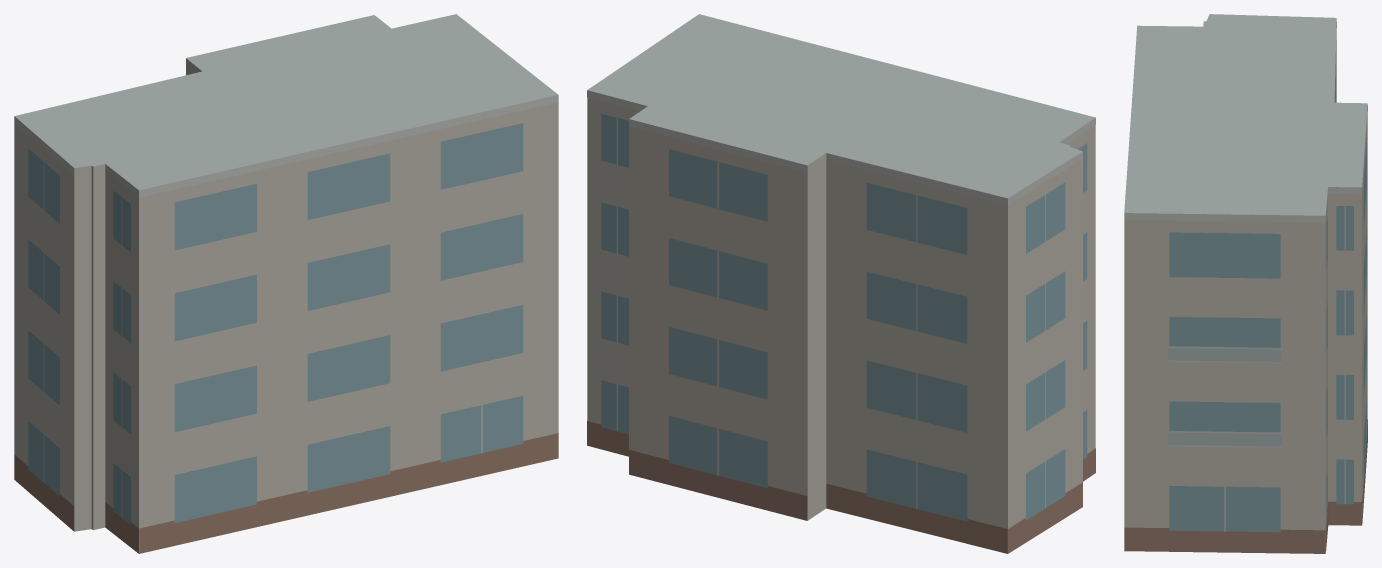
File: survey-upis-32854847.glb
The picture shows the model from 3 angles, left to right: view 1: azimuth 30°, elevation 25°; view 2: azimuth 150°, elevation 25°; view 3: azimuth 270°, elevation 25°; orthographic projection. The views are drawn at different scales.
Visible parts, largest first — view 1: survey-upis-32854847.tmp; view 2: survey-upis-32854847.tmp; view 3: survey-upis-32854847.tmp.
Part boxes in pixels (x1,y1,x2,y2): survey-upis-32854847.tmp: (14,14,558,553); survey-upis-32854847.tmp: (587,14,1095,553); survey-upis-32854847.tmp: (1124,14,1367,553).
Bounding box in the file's own units: 15.56 × 12.15 × 7.94.
